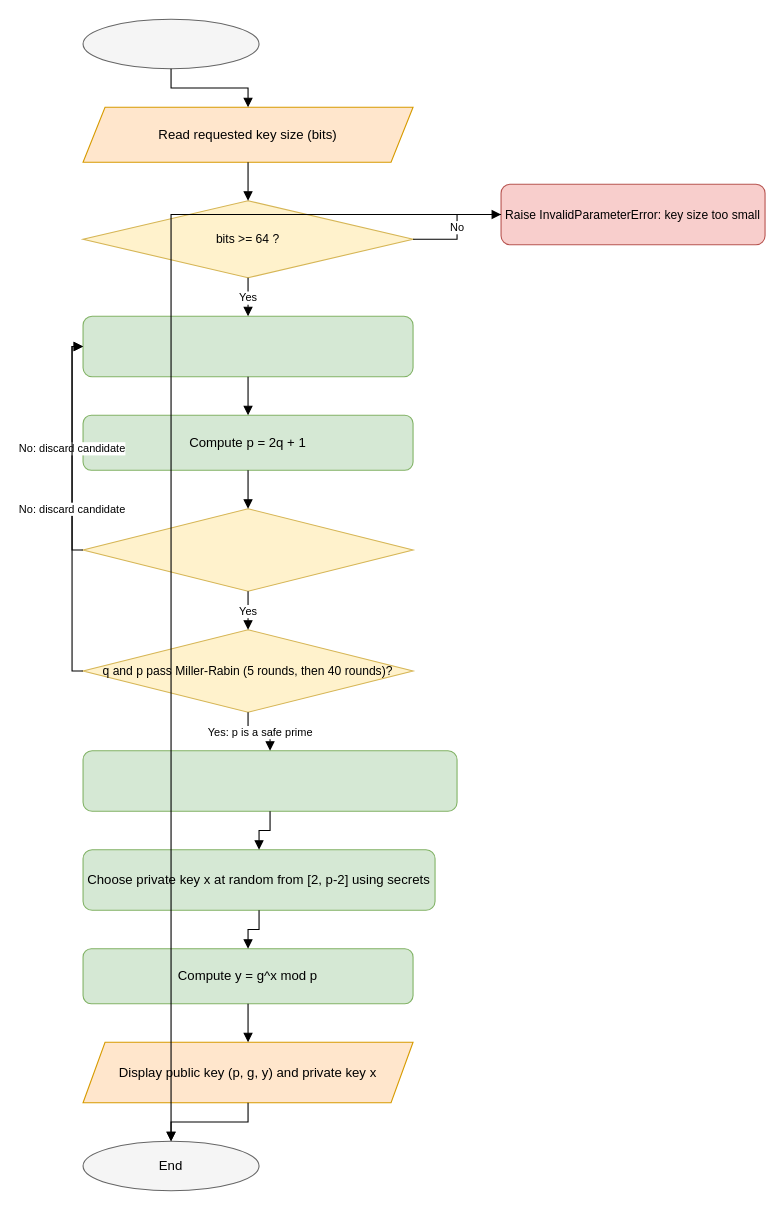
Image size: 784x1210. Some labels were removed from this diagram. Here are the shapes that lost their labels. From the top down, the centre of each, then its label:
point 170,43: Start
point 247,346: Choose random odd candidate q of (bits - 1) bits
point 247,549: q and p pass trial division by small primes?
point 269,780: Choose random g in [2, p-2] with g^2 mod p != 1 and g^q mod p != 1
